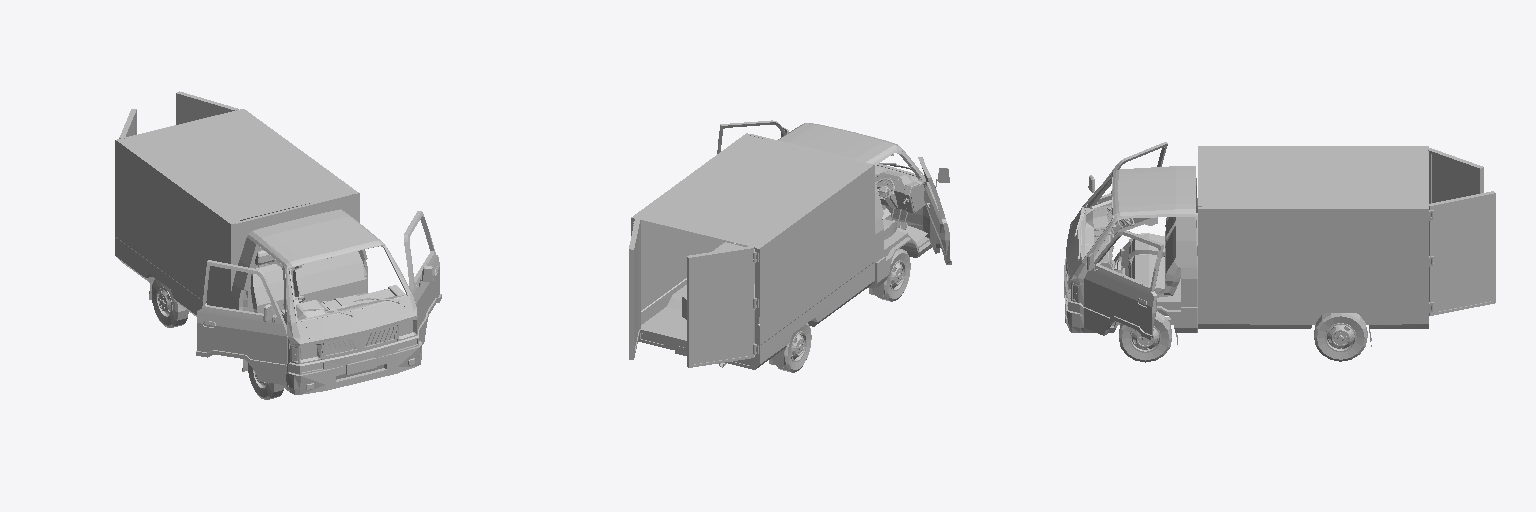
Rendered from JNE Cubic Studio 3D.obj.
3 renders of one model, left to right at view 1: azimuth 30°, elevation 25°; view 2: azimuth 150°, elevation 25°; view 3: azimuth 270°, elevation 25°, orthographic.
Bounding box in the file's own units: 76.65 × 46.95 × 118.